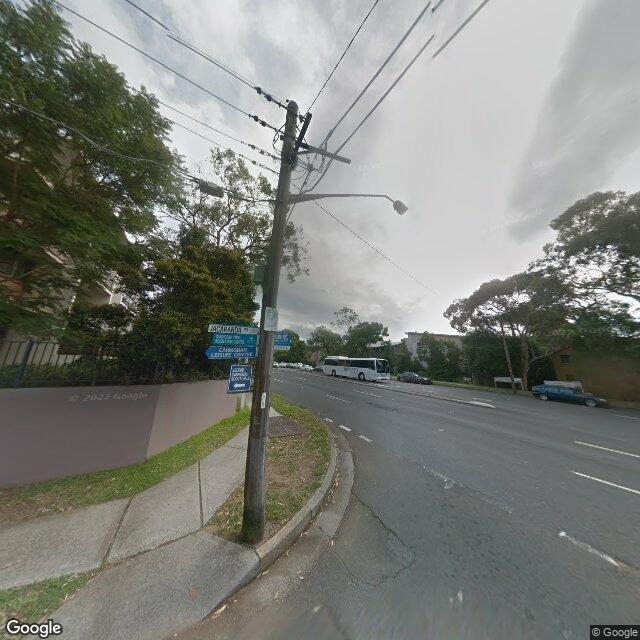crossarm: (280, 134, 351, 166), (290, 112, 313, 164)
streetlight: (287, 193, 409, 215)
timber-pole: (242, 99, 299, 544)
